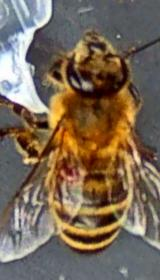varroa_mite: (56, 154, 83, 184)
